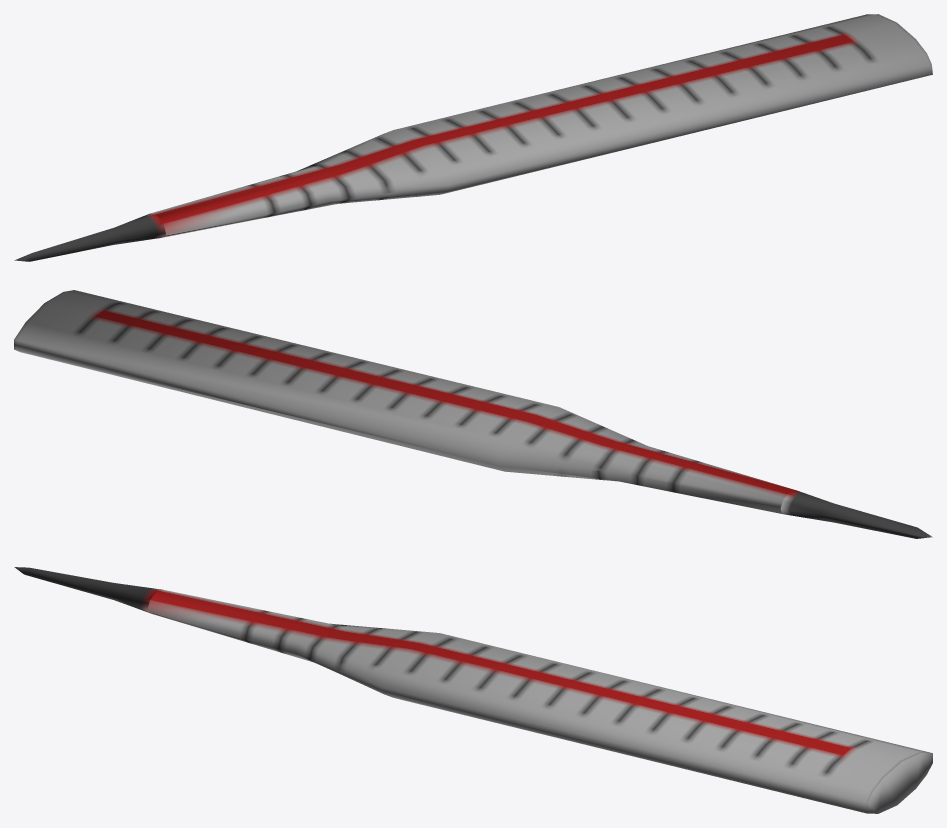
The model's file is TCA_Thermometer.fbx.
3 renders of one model, top to bottom at view 1: azimuth 30°, elevation 25°; view 2: azimuth 150°, elevation 25°; view 3: azimuth 330°, elevation 25°, orthographic.
Parts seen in each view (by area): view 1: Thermometer; view 2: Thermometer; view 3: Thermometer.
Boxes of the visible parts, left/top/right/bottom form: Thermometer: left=14, top=14, right=932, bottom=261; Thermometer: left=14, top=290, right=932, bottom=538; Thermometer: left=14, top=567, right=932, bottom=813.
Size of the model in its own units: 0.3187 by 0.0145 by 0.0414.
